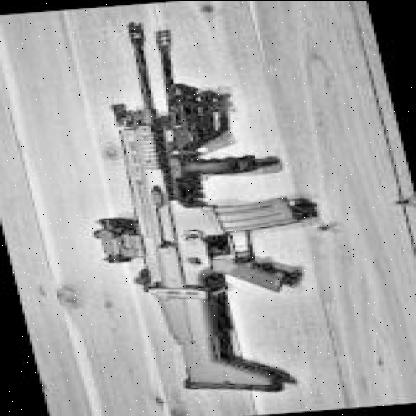rifle: (60, 13, 344, 400)
